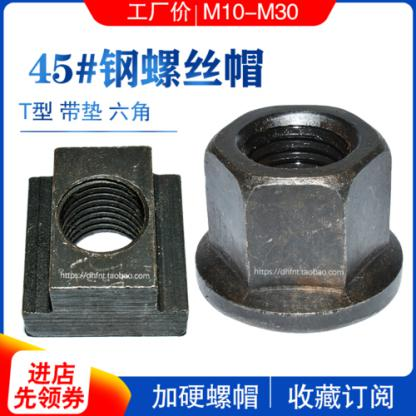FOD: (195, 97, 406, 330), (18, 142, 189, 341)
